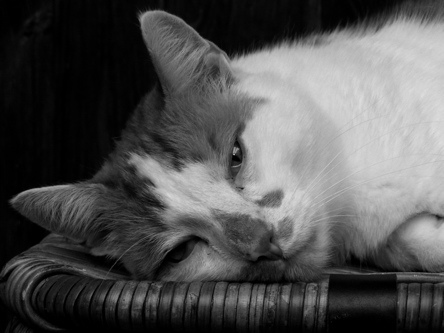cat: (10, 1, 444, 283)
